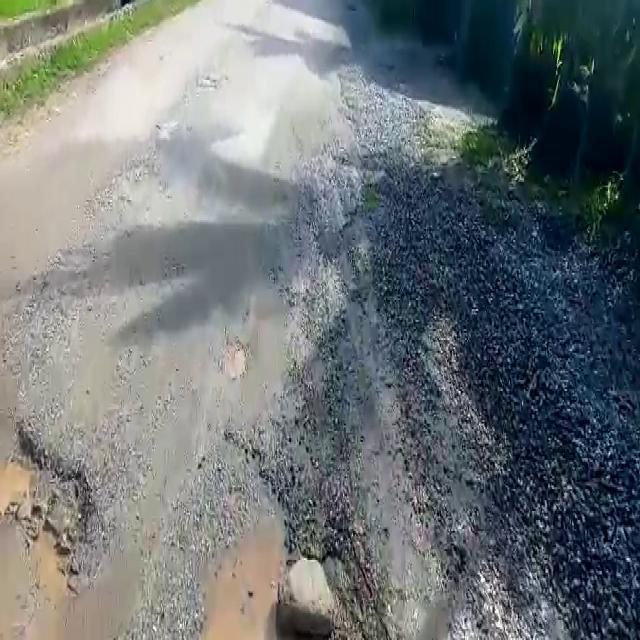pothole: (2, 423, 98, 598), (195, 515, 303, 640)
